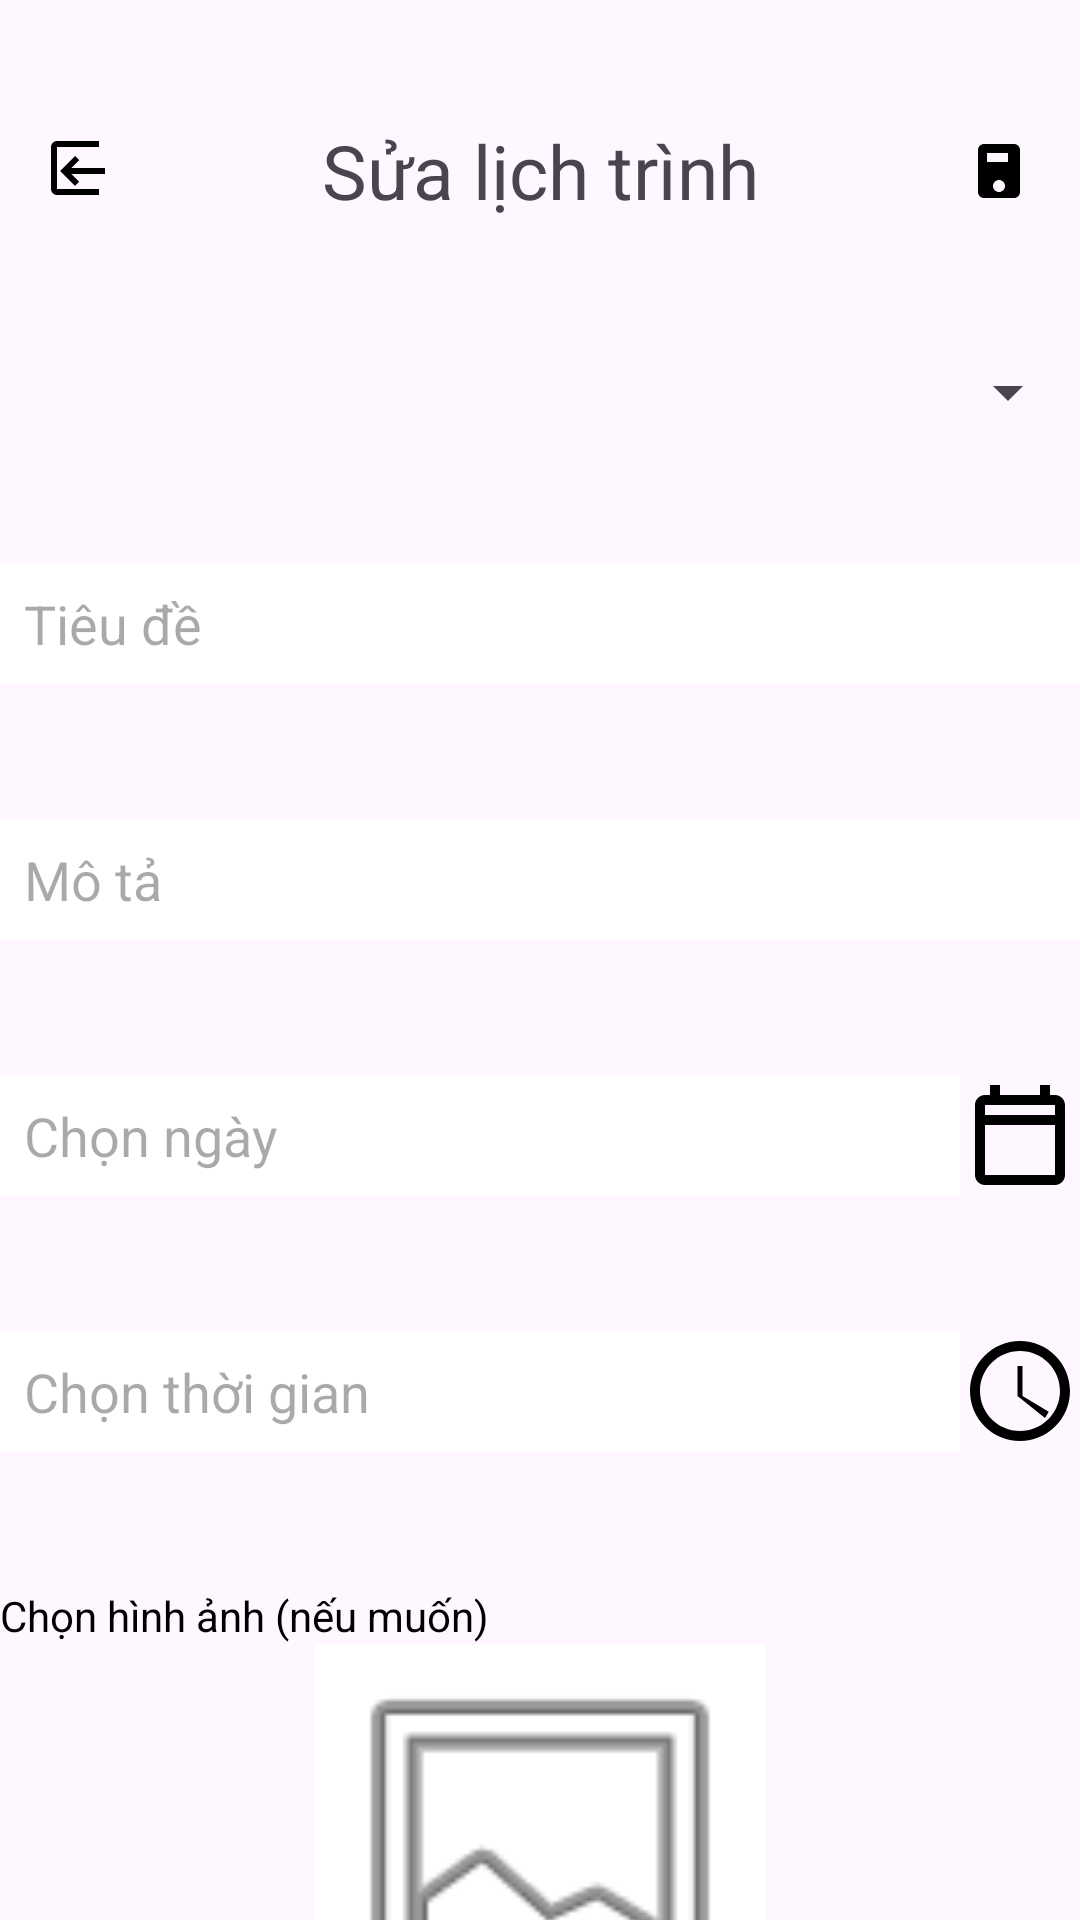

Icons on this 1080x1920 Android screen, each with its box as (x1, y1, x2, y2):
date: (975, 1085, 1065, 1185)
exit: (51, 141, 105, 195)
save: (978, 144, 1020, 198)
time: (970, 1341, 1070, 1441)
